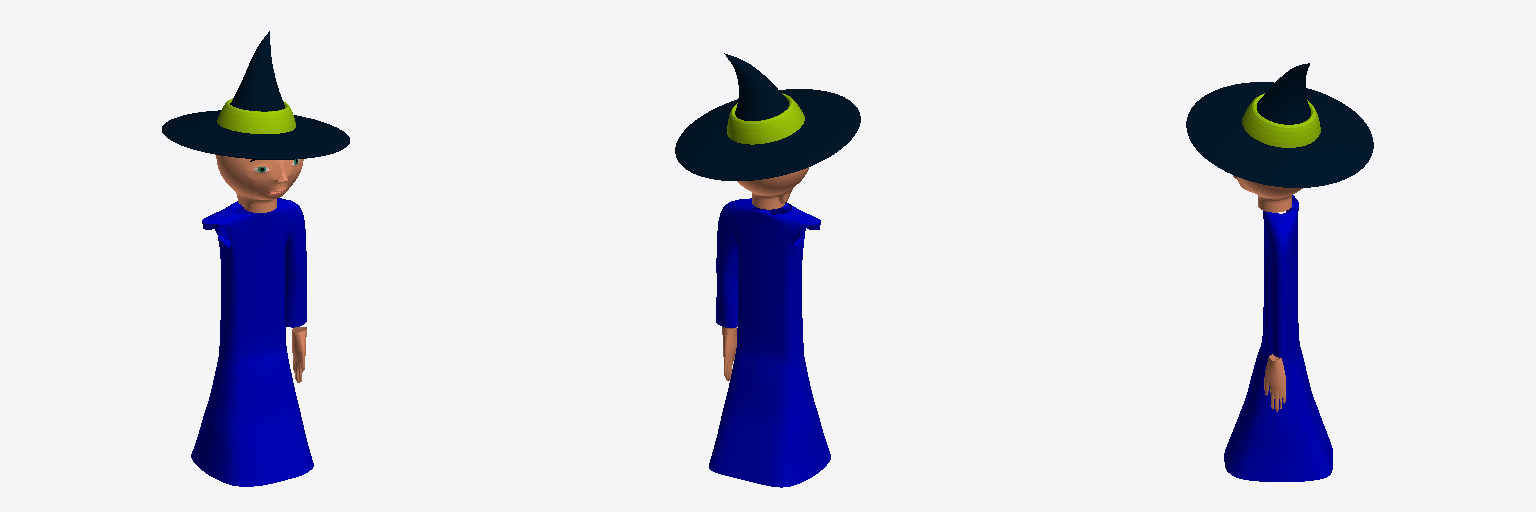
Rendered from new-wizard-body.obj.
3 views of the same model, side by side, from view 1: azimuth 30°, elevation 25°; view 2: azimuth 150°, elevation 25°; view 3: azimuth 270°, elevation 25° (orthographic).
Visible parts, largest first — view 1: Sphere.004_Sphere.007, Circle.003_Circle.006, Sphere.005_Sphere.008; view 2: Sphere.004_Sphere.007, Circle.003_Circle.006, Sphere.005_Sphere.008; view 3: Circle.003_Circle.006, Sphere.004_Sphere.007, Sphere.005_Sphere.008.
Boxes of the visible parts, x1,y1,x2,y2 form: Sphere.004_Sphere.007: [191, 198, 313, 486]; Circle.003_Circle.006: [162, 31, 349, 159]; Sphere.005_Sphere.008: [216, 155, 306, 382]; Sphere.004_Sphere.007: [709, 198, 830, 487]; Circle.003_Circle.006: [675, 53, 860, 180]; Sphere.005_Sphere.008: [722, 167, 808, 380]; Circle.003_Circle.006: [1186, 63, 1373, 187]; Sphere.004_Sphere.007: [1224, 195, 1332, 481]; Sphere.005_Sphere.008: [1233, 175, 1302, 411].
Bounding box in the file's own units: 8.27 × 20.17 × 8.29.